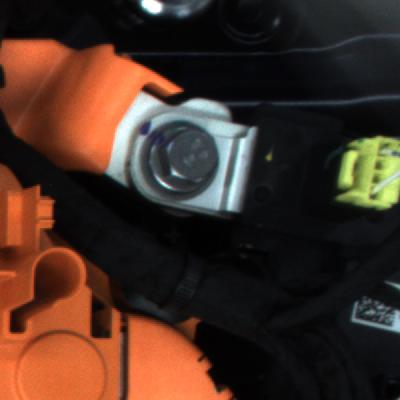nut_b: (128, 112, 224, 205)
